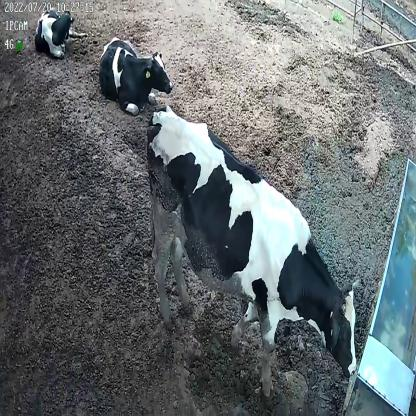cow: (140, 108, 359, 393), (98, 35, 175, 117), (32, 8, 87, 60)
